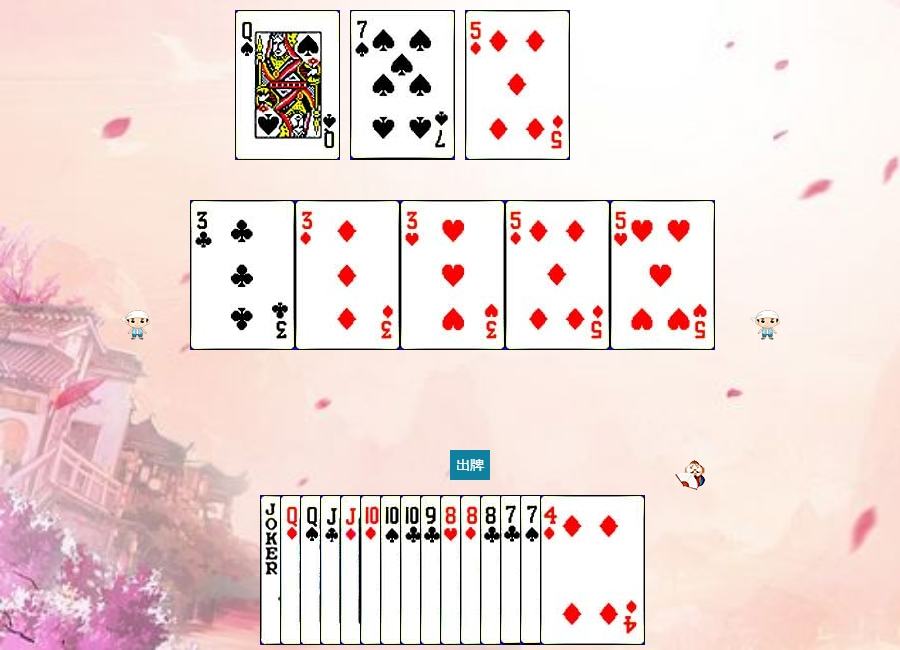10~1: (360, 495, 465, 645)
10~2: (400, 495, 505, 645)
10~4: (380, 495, 485, 645)
11~1: (340, 495, 445, 645)
11~2: (320, 495, 425, 645)
12~1: (280, 495, 385, 645)
12~4: (235, 10, 340, 160), (300, 495, 405, 645)
17~3: (260, 495, 365, 645)
3~1: (295, 200, 400, 350)
3~2: (190, 200, 295, 350)
3~3: (400, 200, 505, 350)
4~1: (540, 495, 645, 645)
5~1: (465, 10, 570, 160), (505, 200, 610, 350)
5~3: (610, 200, 715, 350)
7~2: (500, 495, 605, 645)
7~4: (350, 10, 455, 160), (520, 495, 625, 645)
8~1: (460, 495, 565, 645)
8~2: (480, 495, 585, 645)
8~3: (440, 495, 545, 645)
9~2: (420, 495, 525, 645)
